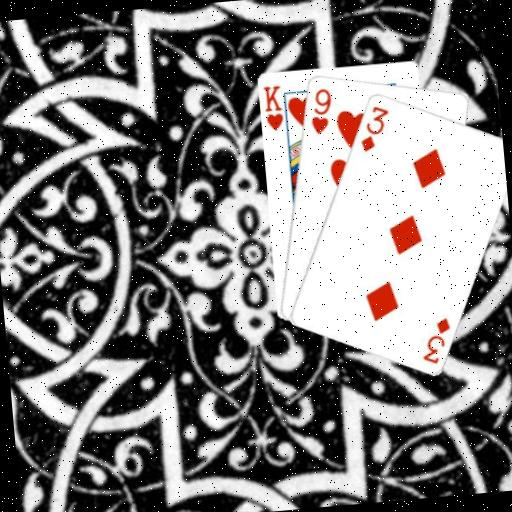3D: (354, 101, 394, 154), (416, 314, 455, 367)
9H: (305, 84, 336, 137)
KH: (259, 82, 285, 133)
